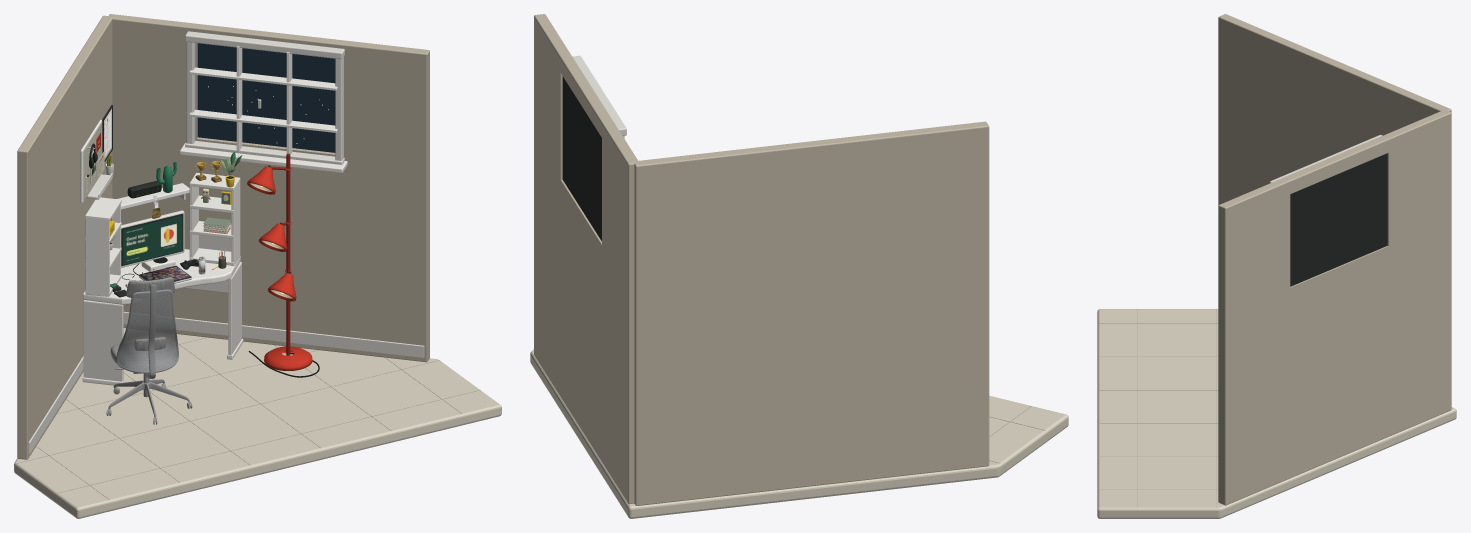
Rendered from workspace-saved.glb.
3 views of the same model, side by side, from view 1: azimuth 30°, elevation 25°; view 2: azimuth 150°, elevation 25°; view 3: azimuth 270°, elevation 25° (orthographic). The views are drawn at different scales.
Visible parts, largest first — view 1: _static · Limewashed plaster, Room floor, window_glass, _static · Warm powder-coated white, chair · Supplied ergonomic office chair, window · Porcelain edges, window · Warm powder-coated white, workspace_left_wing · Porcelain edges, _static · Porcelain edges, workspace_right_wing · Porcelain edges, monitor_screen, _static · Tile grout (+3 smaller); view 2: _static · Limewashed plaster, Room floor, Window deep recess, window · Warm powder-coated white; view 3: _static · Limewashed plaster, Room floor, Window deep recess, _static · Tile grout.
Part boxes in pixels (box(x1,y1,x2,y2)): _static · Limewashed plaster: box(17, 14, 429, 459); Room floor: box(14, 328, 501, 518); window_glass: box(198, 43, 335, 152); _static · Warm powder-coated white: box(28, 194, 424, 454); chair · Supplied ergonomic office chair: box(106, 277, 192, 424); window · Porcelain edges: box(180, 46, 347, 172); window · Warm powder-coated white: box(185, 31, 344, 164); workspace_left_wing · Porcelain edges: box(80, 119, 121, 296); _static · Porcelain edges: box(82, 183, 243, 385); workspace_right_wing · Porcelain edges: box(189, 172, 240, 266); monitor_screen: box(123, 215, 182, 264); _static · Tile grout: box(17, 337, 480, 499); _static · Limewashed plaster: box(534, 14, 989, 505); Room floor: box(530, 350, 1068, 518); Window deep recess: box(562, 76, 601, 241); window · Warm powder-coated white: box(572, 55, 626, 138); _static · Limewashed plaster: box(1218, 14, 1451, 505); Room floor: box(1097, 309, 1456, 518); Window deep recess: box(1290, 153, 1387, 286); _static · Tile grout: box(1100, 309, 1420, 507).
Bounding box in the file's own units: 6.64 × 4.76 × 5.02.
69 materials, 14 textured.
